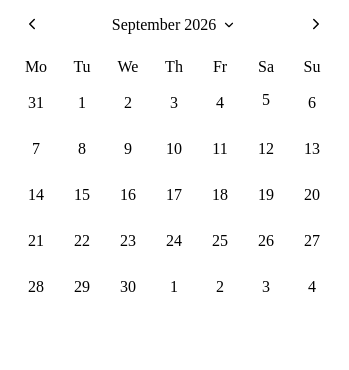
Scenario: Calendar › year / month views › lands on the picked month when uncontrolled
The image size is (349, 370).
Click the button with aria-label "Choose year". click: (174, 25)
box: [112,16,236,34]
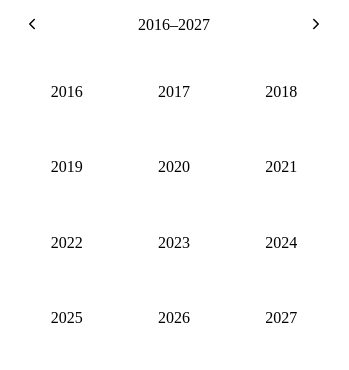
Click the button "2025". click: (67, 318)
box: [16,284,117,353]
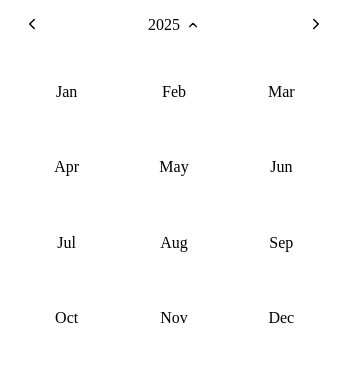
Click the button "Mar". click: (281, 92)
box: [231,57,332,126]
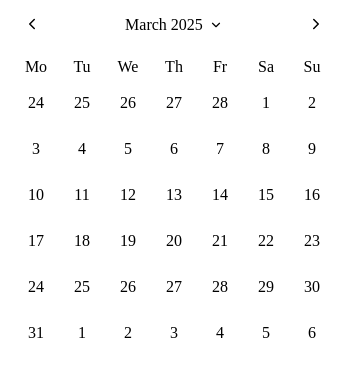
expect the button "March 2025" is shown: met, box [125,16,223,34]
